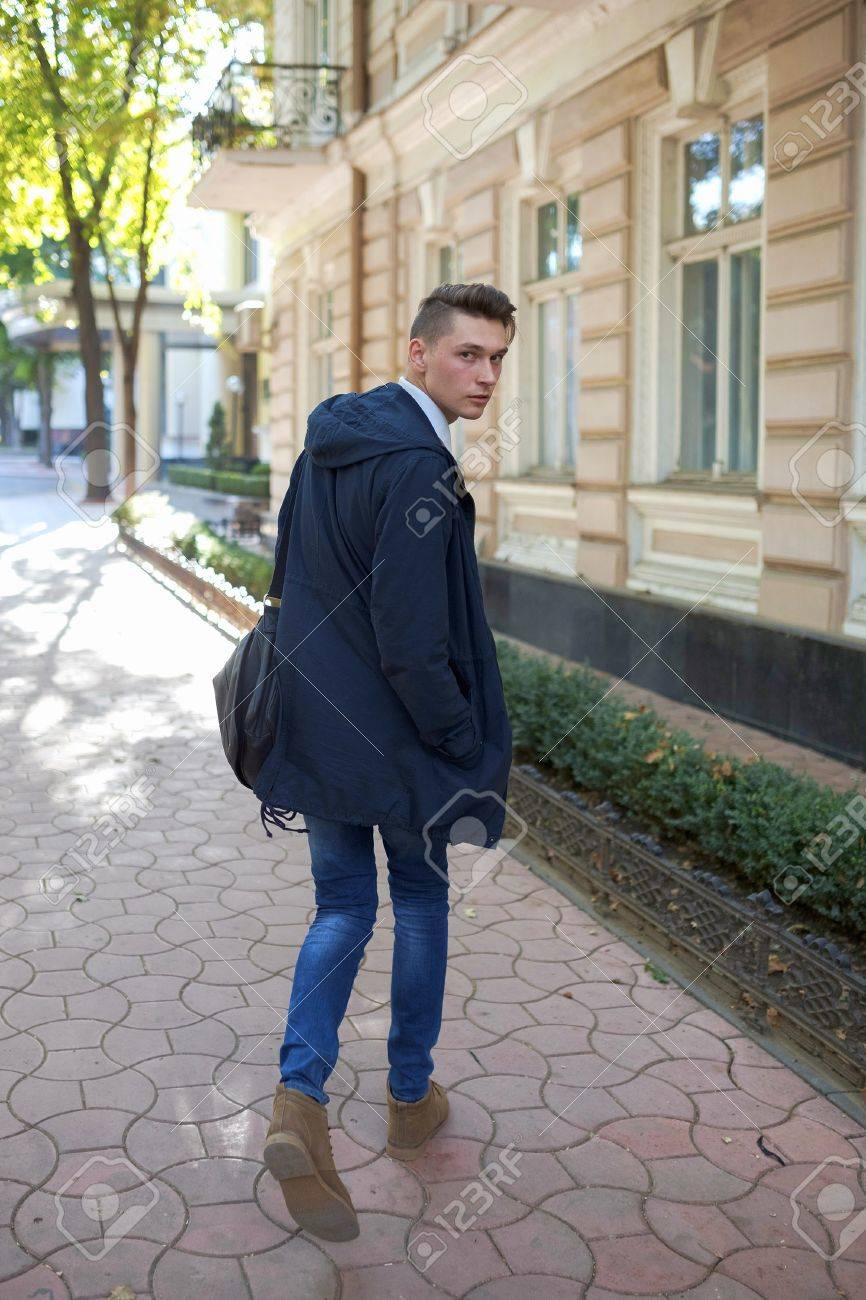person: (201, 272, 524, 1253)
